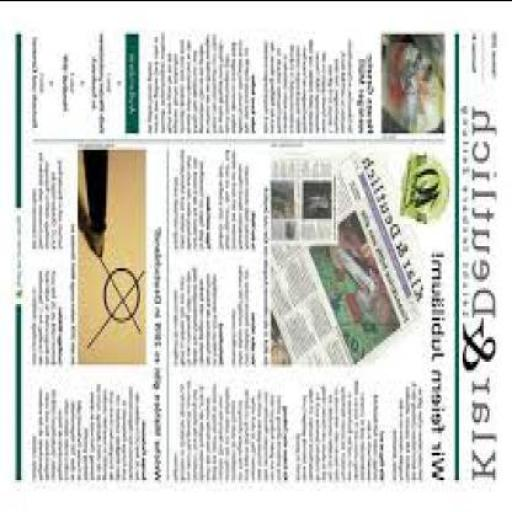cardboard: (1, 0, 512, 511), (275, 154, 429, 368), (272, 154, 342, 250)
